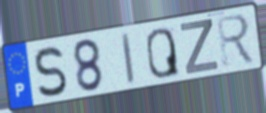8: (71, 37, 104, 94)
I: (120, 30, 137, 86)
Q: (145, 26, 182, 80)
R: (214, 12, 258, 69)
S: (33, 44, 69, 99)
Z: (179, 17, 221, 76)
